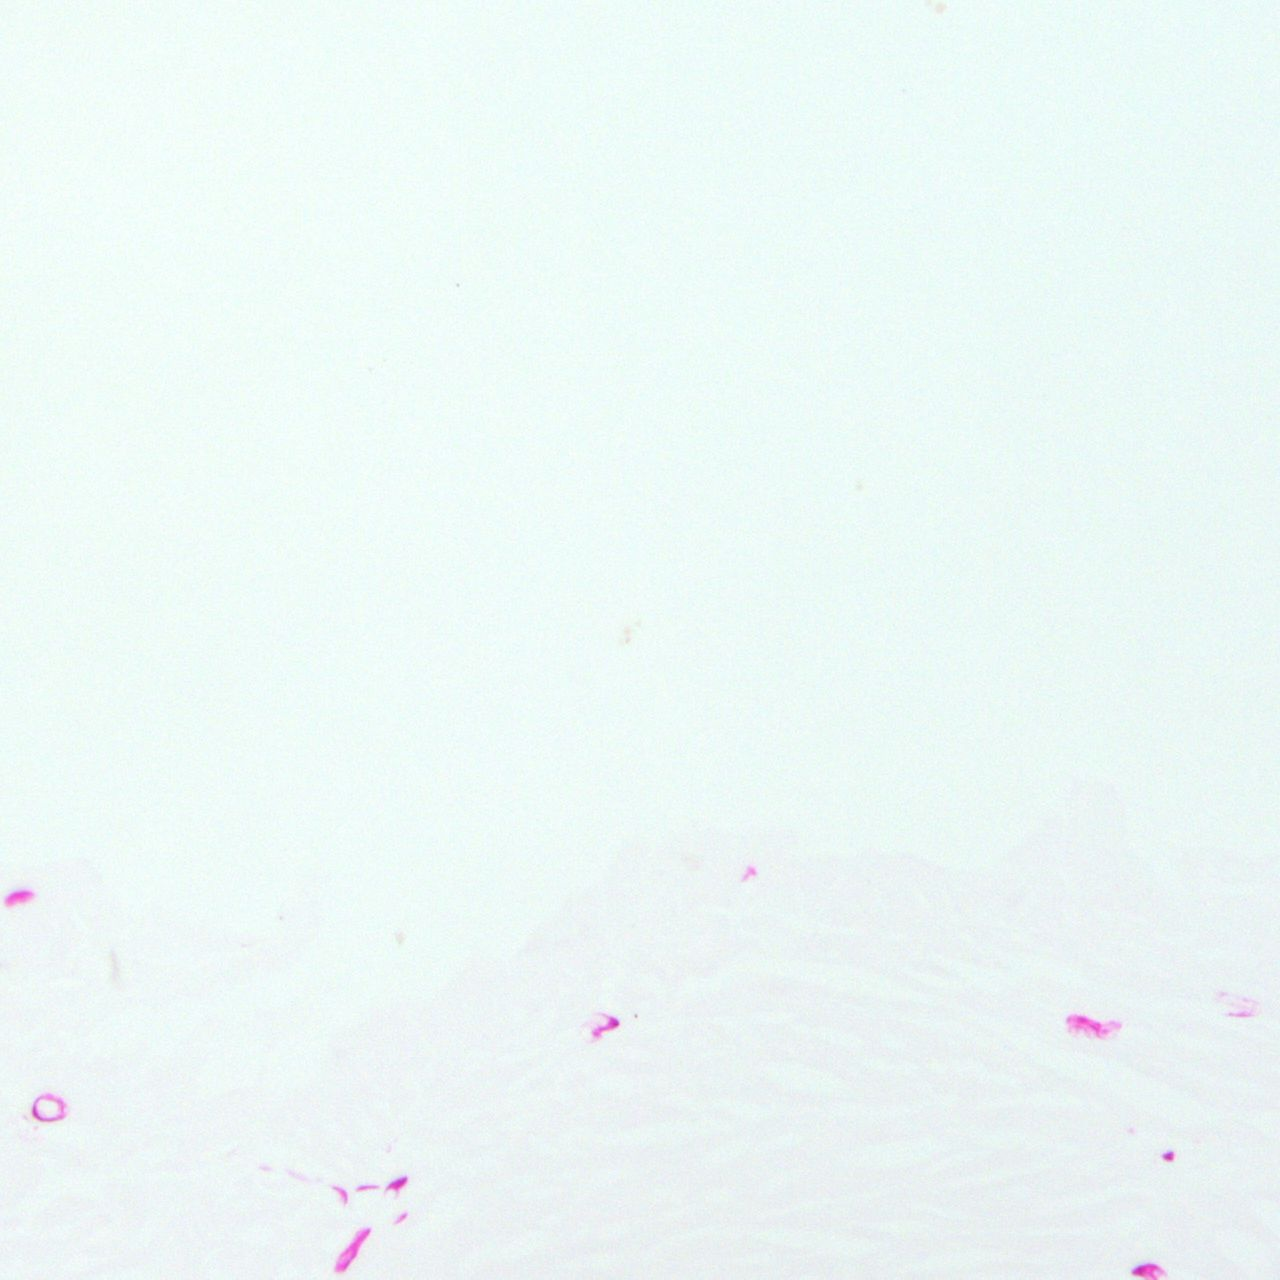nucleus-FG: (331, 1221, 373, 1275), (588, 1012, 622, 1039), (1131, 1262, 1160, 1280), (386, 1175, 410, 1193), (5, 891, 33, 905)
